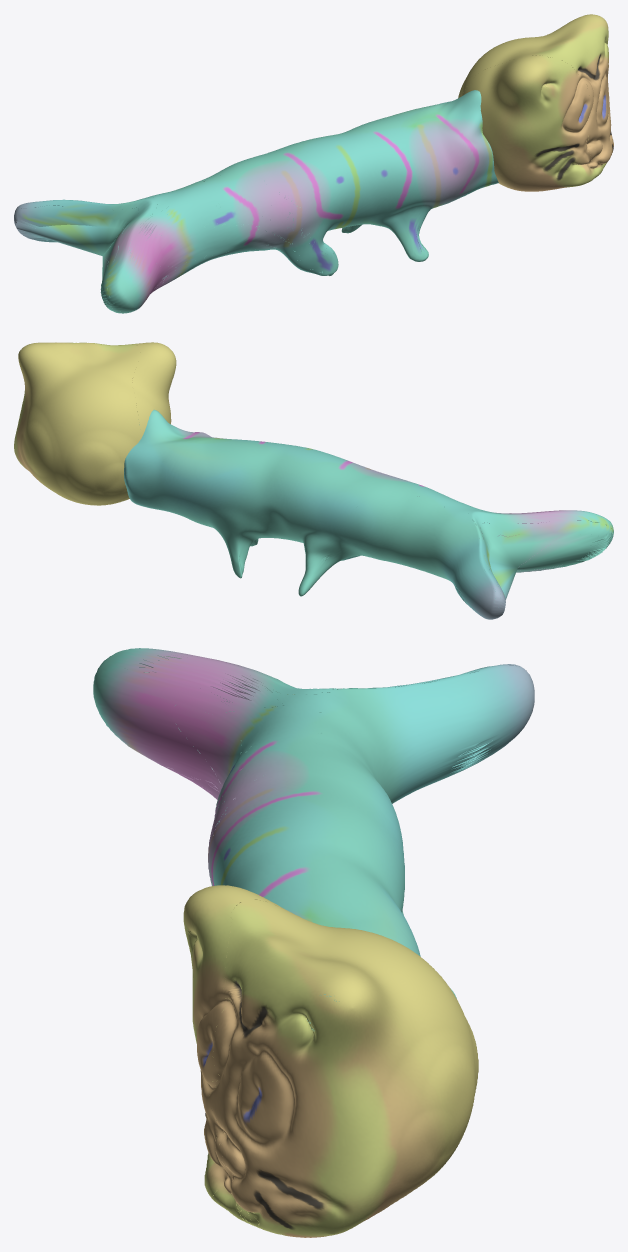
3 views of the same model, one above another, from view 1: azimuth 30°, elevation 25°; view 2: azimuth 150°, elevation 25°; view 3: azimuth 270°, elevation 25° (orthographic). The views are drawn at different scales.
Parts seen in each view (by area): view 1: Geode; view 2: Geode; view 3: Geode.
Part boxes in pixels (x1,y1,x2,y2): Geode: (14, 14, 613, 313); Geode: (14, 342, 613, 619); Geode: (93, 648, 534, 1237).
Bounding box in the file's own units: 246 × 75.53 × 87.33.
